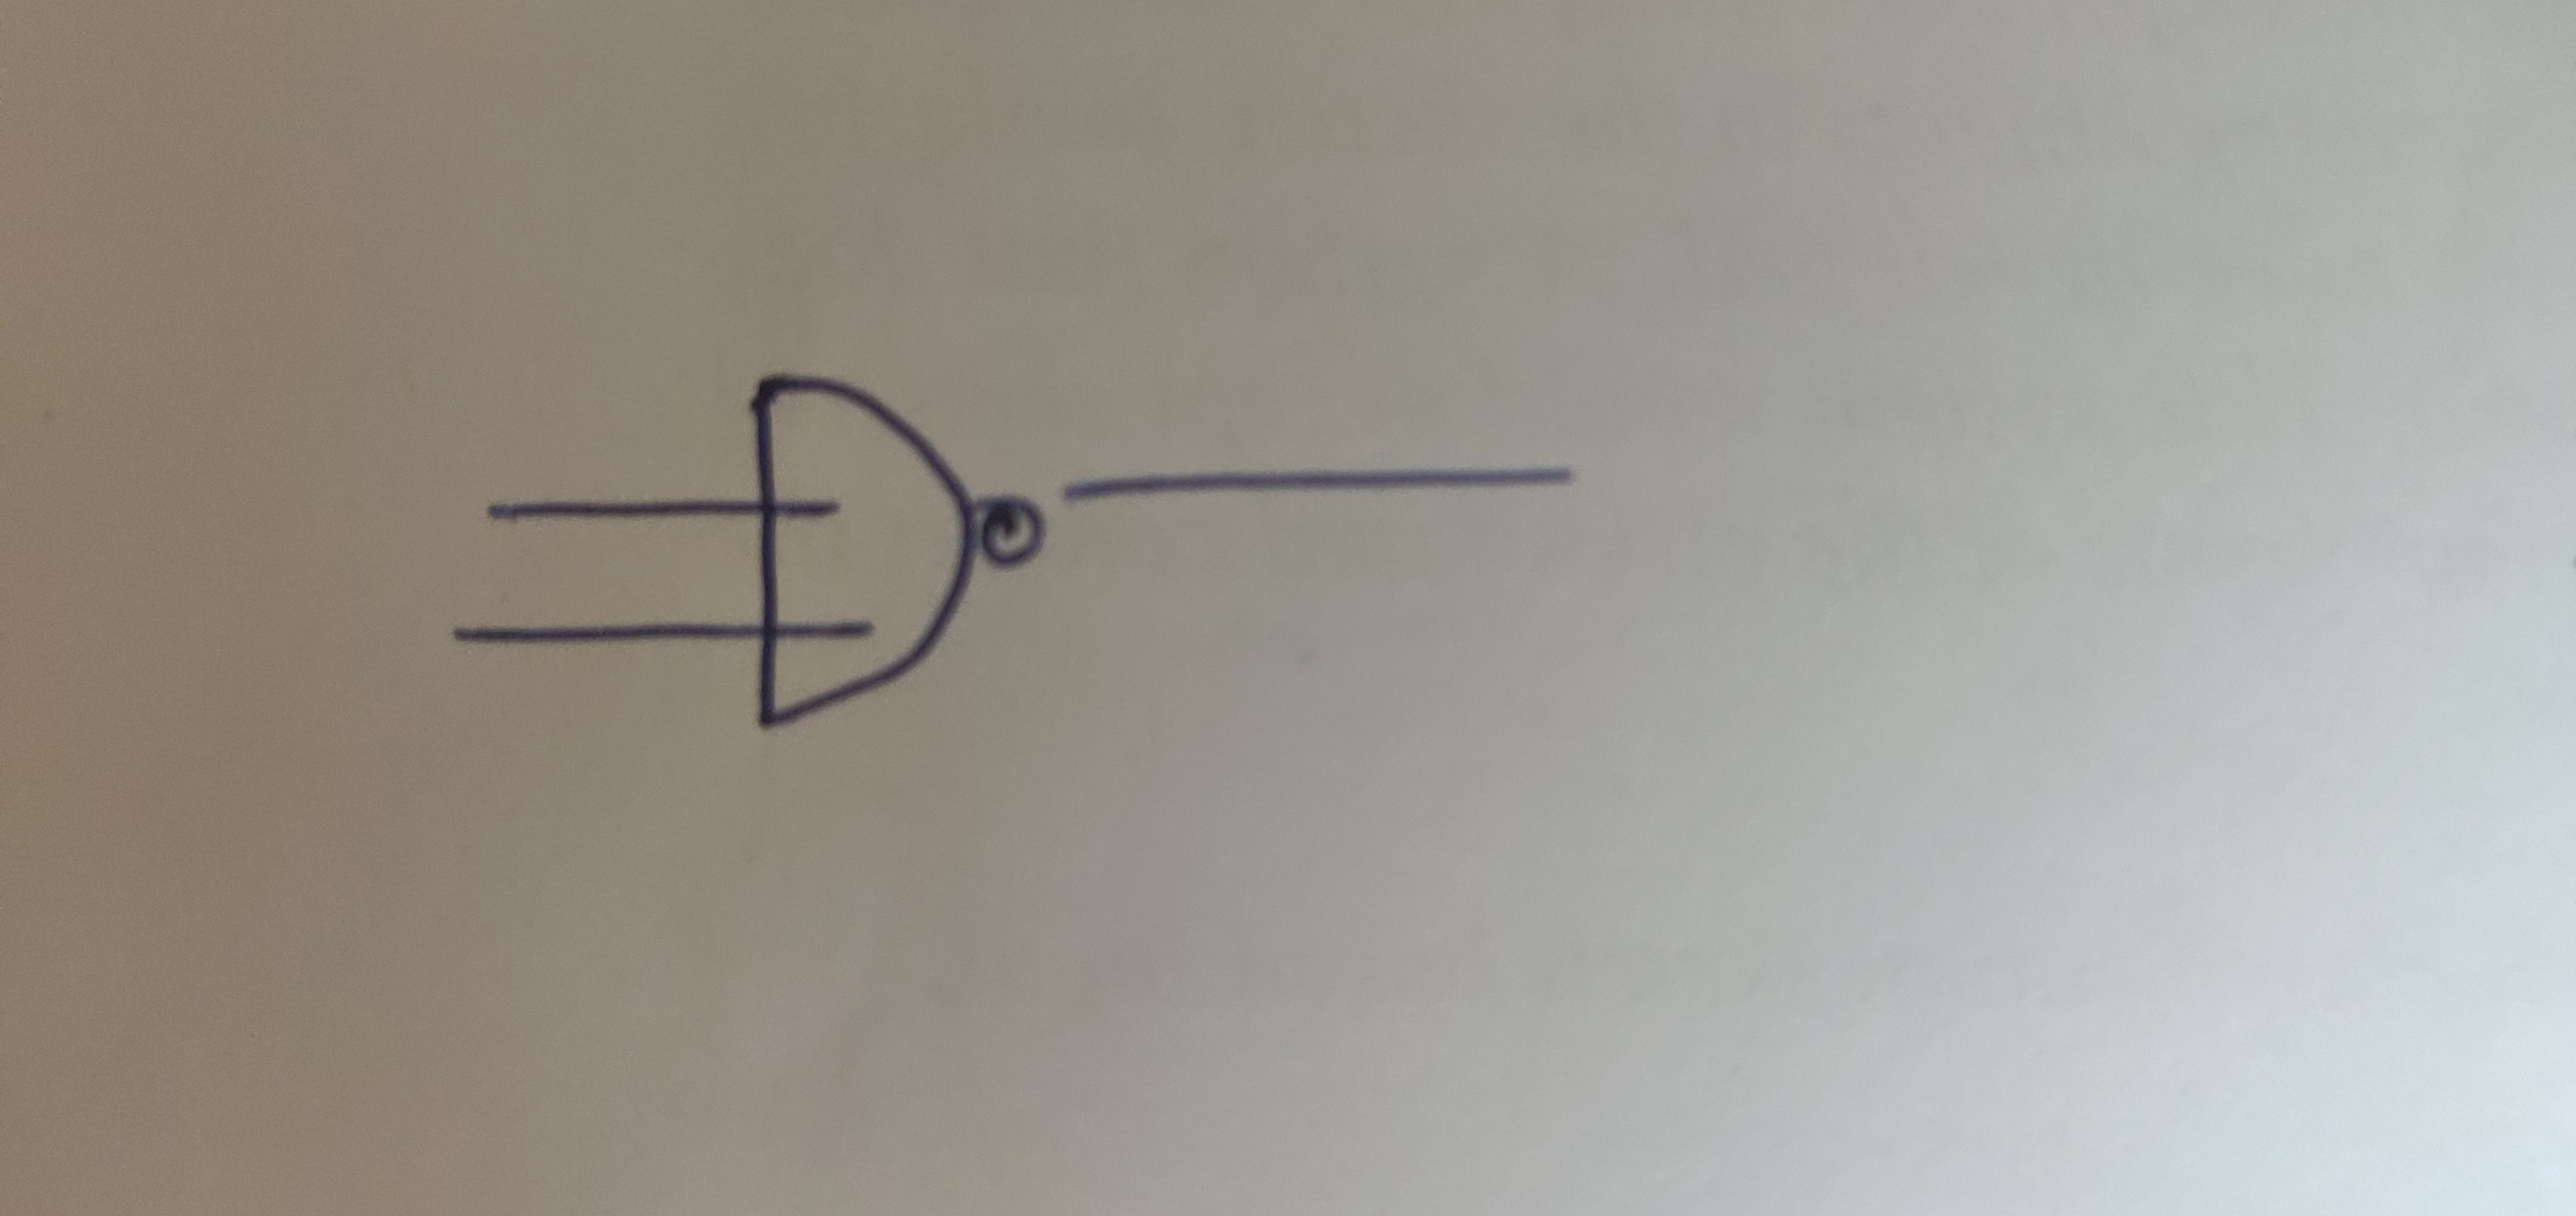nand: (682, 316, 1196, 802)
